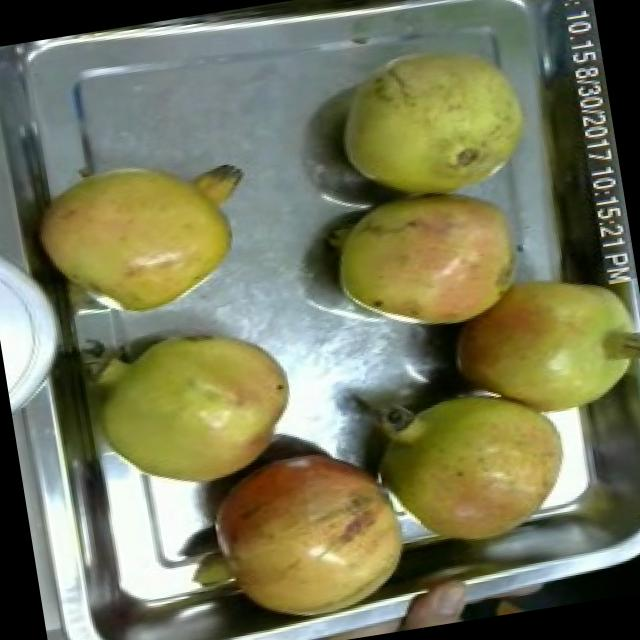fruit: (166, 424, 428, 640), (18, 130, 270, 338), (350, 364, 592, 568), (77, 309, 315, 508), (316, 24, 549, 216), (307, 173, 544, 355), (427, 252, 640, 442)
